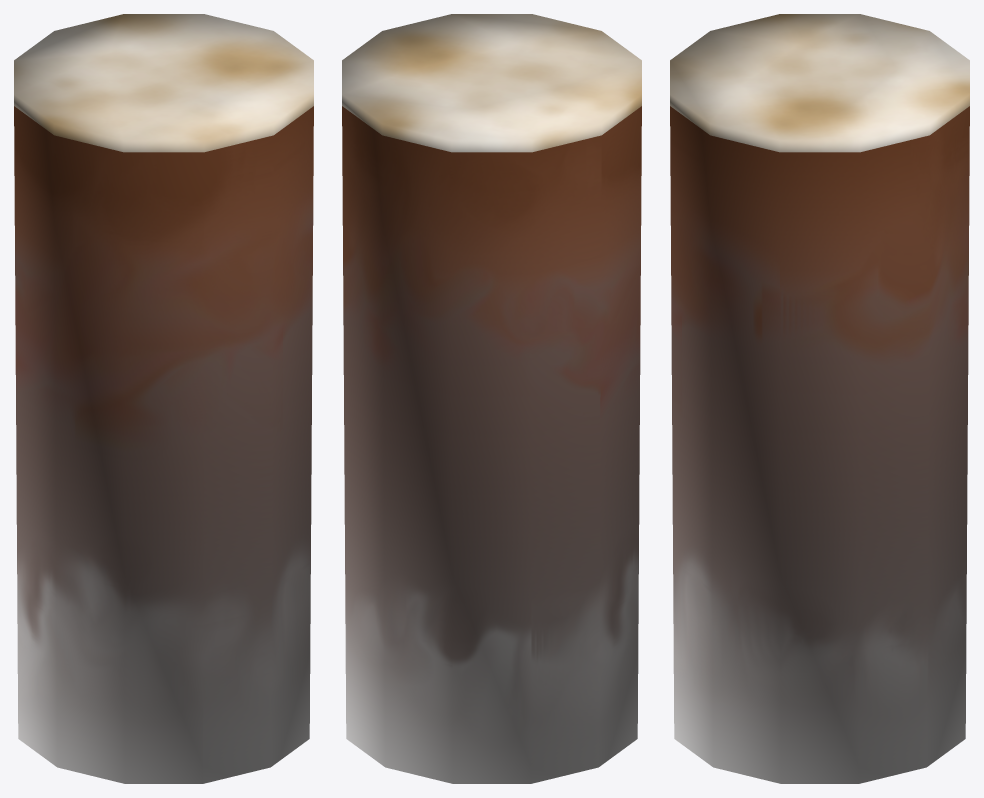
The model's file is relleno_cold_lact_solo.glb.
3 renders of one model, left to right at view 1: azimuth 30°, elevation 25°; view 2: azimuth 150°, elevation 25°; view 3: azimuth 270°, elevation 25°, orthographic.
Visible parts, largest first — view 1: relleno_cold_lact; view 2: relleno_cold_lact; view 3: relleno_cold_lact.
Part boxes in pixels (x1=…): relleno_cold_lact: x1=14, y1=14, x2=313, y2=783; relleno_cold_lact: x1=342, y1=14, x2=641, y2=783; relleno_cold_lact: x1=670, y1=14, x2=969, y2=783.
Bounding box in the file's own units: 0.9505 × 2.28 × 0.9505.
Materials: 2 (2 with a texture image).
